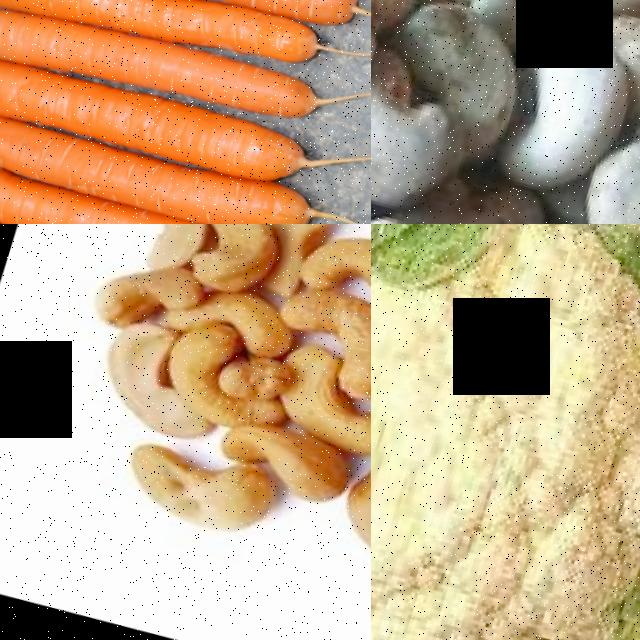carrot: (0, 31, 316, 204), (0, 0, 334, 148), (0, 85, 343, 224), (0, 0, 354, 96), (0, 137, 337, 224), (0, 0, 371, 56)
cashew: (98, 422, 304, 575), (493, 27, 611, 180), (371, 58, 475, 211), (65, 309, 181, 439), (271, 353, 371, 465), (83, 253, 215, 334), (214, 274, 301, 357), (295, 283, 371, 378), (188, 224, 291, 291), (158, 328, 234, 404), (307, 232, 371, 322), (332, 449, 371, 592), (111, 224, 225, 271), (265, 224, 342, 264)
cauliflower: (371, 224, 640, 640)
